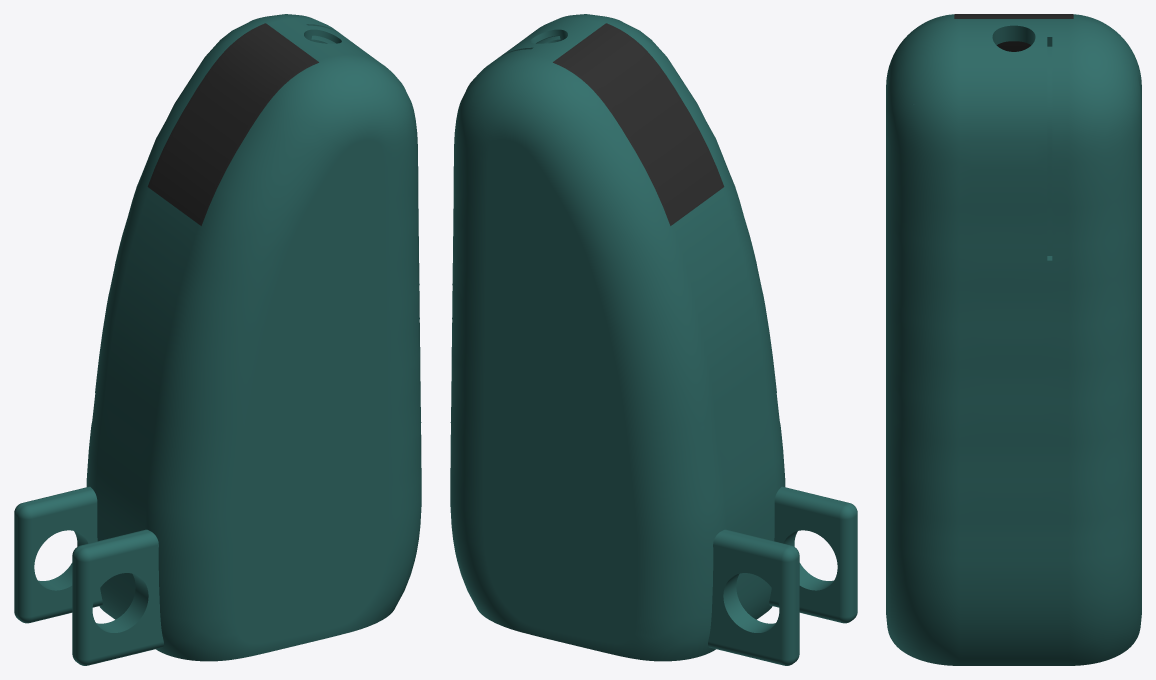
File: funda_A_XS.glb
3 renders of one model, left to right at view 1: azimuth 30°, elevation 25°; view 2: azimuth 150°, elevation 25°; view 3: azimuth 270°, elevation 25°, orthographic. The views are drawn at different scales.
Visible parts, largest first — view 1: funda, membrana; view 2: funda, membrana; view 3: funda, membrana.
Part boxes in pixels (x1,y1,x2,y2): funda: (14,14,421,665); membrana: (147,23,318,225); funda: (450,14,857,665); membrana: (553,23,724,225); funda: (886,14,1141,665); membrana: (954,14,1073,51).
Size of the model in its own units: 18.35 by 28.1 by 10.7.
